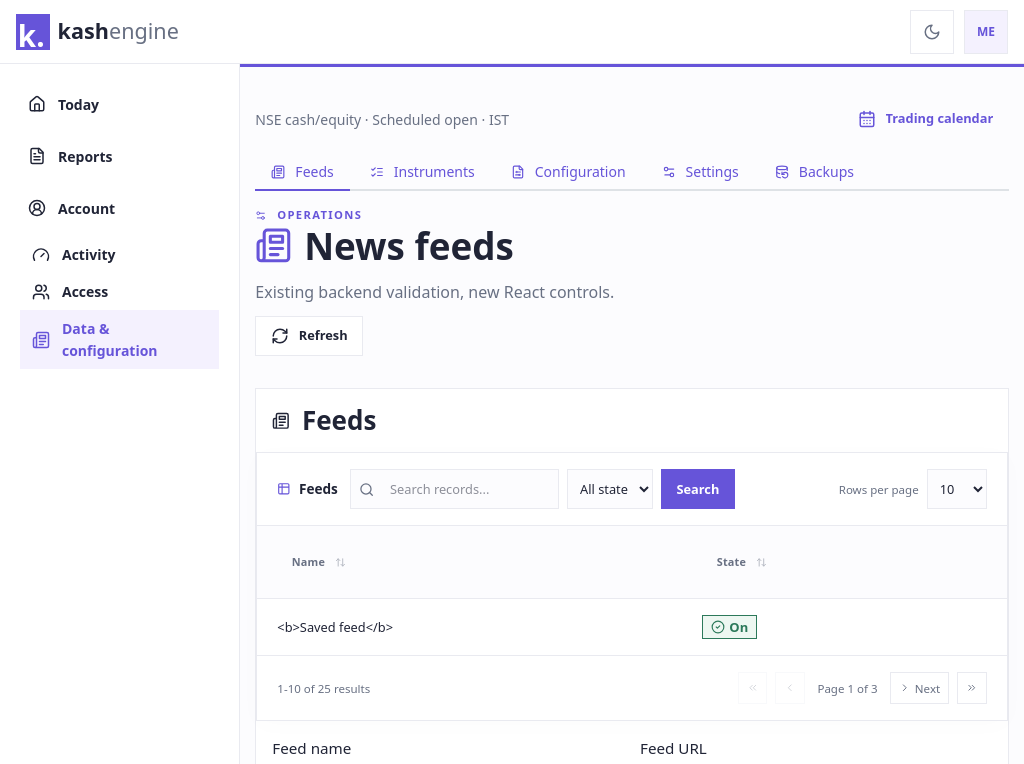
Test case: hides stale tables after permission revocation
Expected: the table named "Feeds" is shown, [257,525,1007,655]
Click the button "Refresh" at (309, 336), box [255,316,363,356]
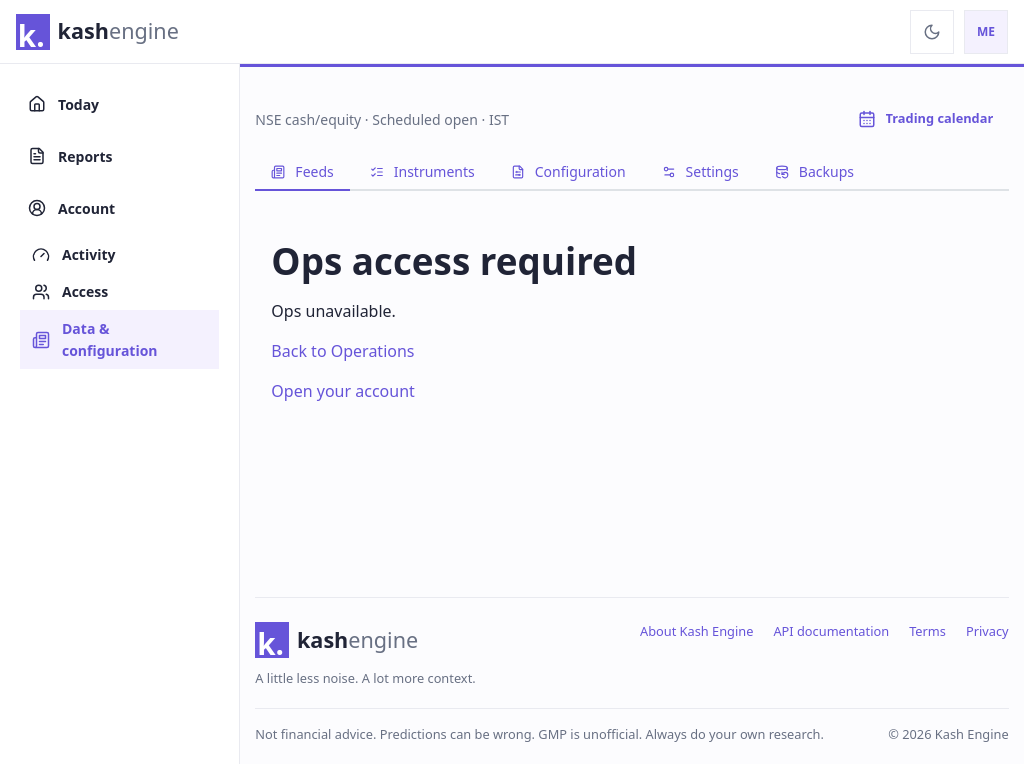
Expected: the text "Ops unavailable." is shown, [271,300,396,322]
